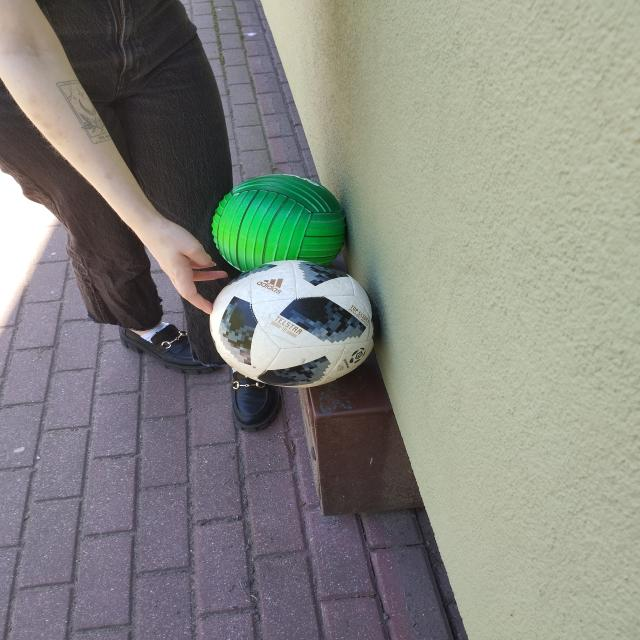nozna: (210, 259, 375, 388)
zielona: (211, 174, 347, 273)
